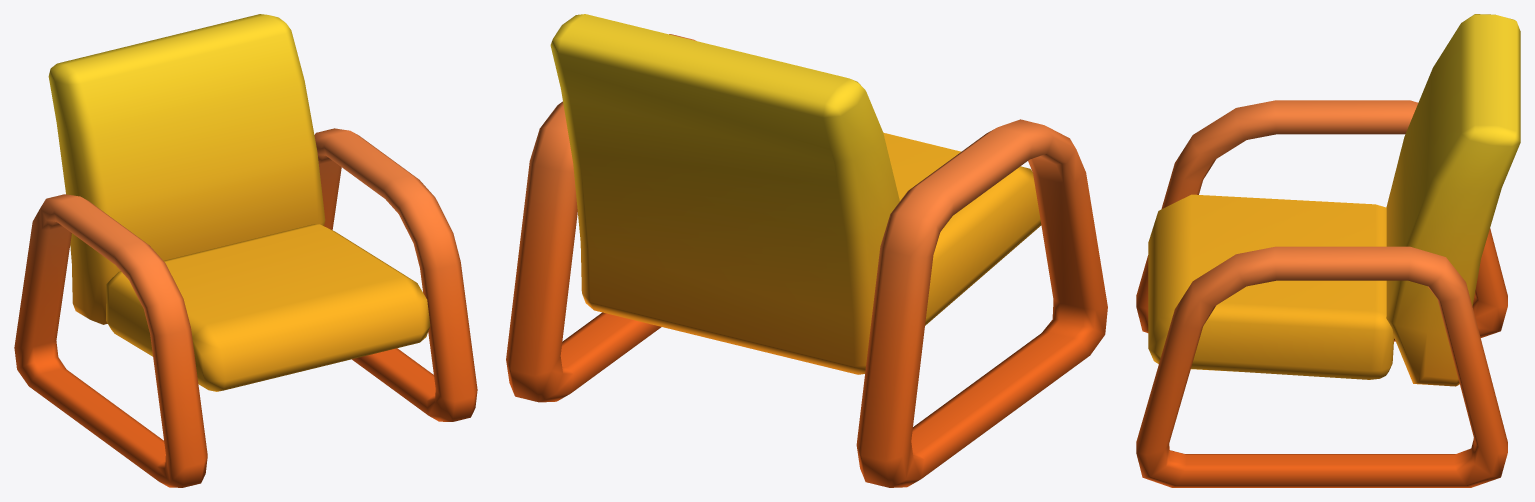
File: Furniture_Chair_04.fbx
3 views of the same model, side by side, from view 1: azimuth 30°, elevation 25°; view 2: azimuth 150°, elevation 25°; view 3: azimuth 270°, elevation 25° (orthographic). The views are drawn at different scales.
Parts seen in each view (by area): view 1: Furniture_Chair_04; view 2: Furniture_Chair_04; view 3: Furniture_Chair_04.
Boxes of the visible parts, x1,y1,x2,y2 form: Furniture_Chair_04: (14, 14, 477, 487); Furniture_Chair_04: (506, 14, 1107, 487); Furniture_Chair_04: (1136, 14, 1520, 487).
Size of the model in its own units: 141 by 135 by 138.
